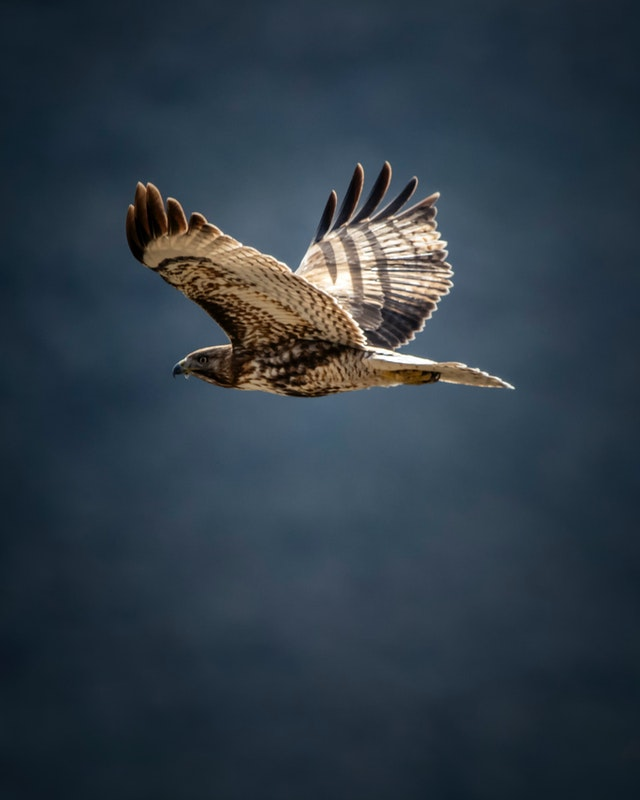bird: (126, 162, 518, 396)
